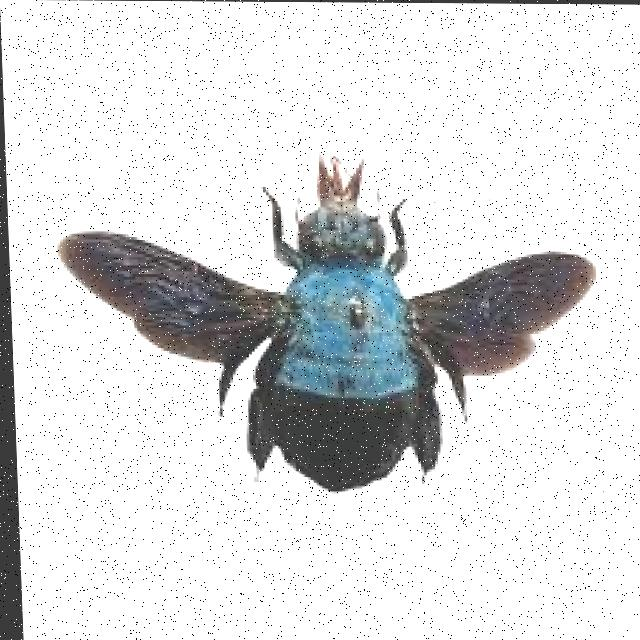Xylocopa: (39, 160, 605, 504)
